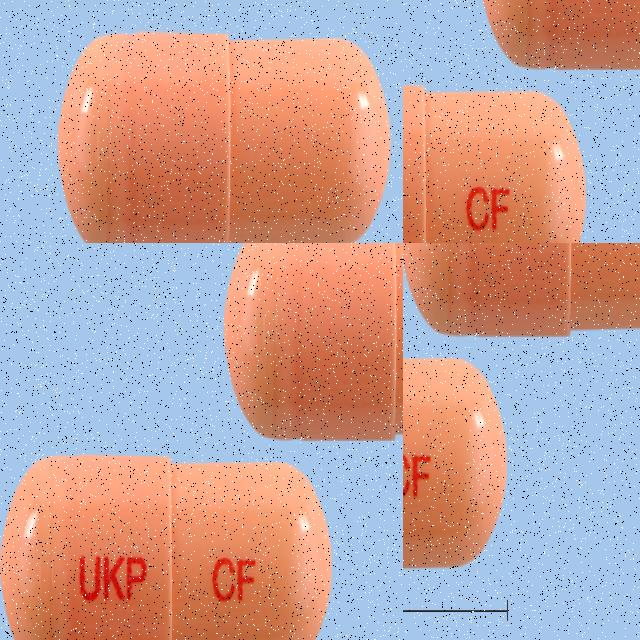Isentress: (403, 37, 546, 243), (520, 0, 640, 114)
Unilevo Tab: (403, 346, 507, 577), (403, 243, 640, 336)
Ziagen Tab: (166, 574, 353, 640)
